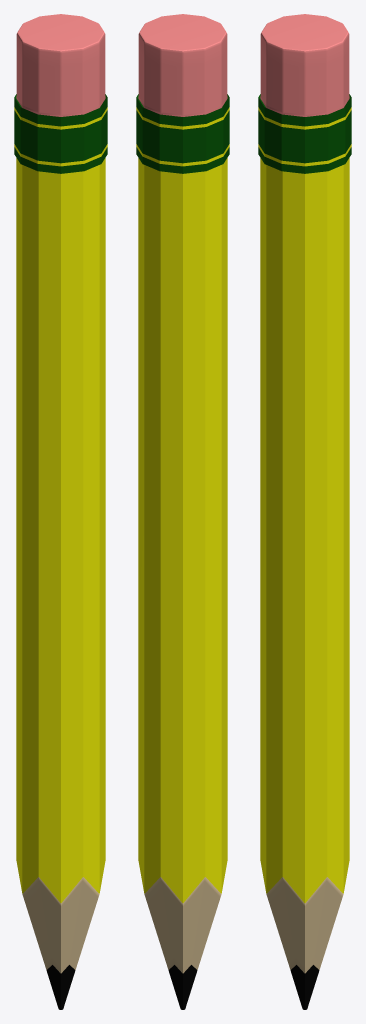
File: pencil.fbx
The picture shows the model from 3 angles, left to right: view 1: azimuth 30°, elevation 25°; view 2: azimuth 150°, elevation 25°; view 3: azimuth 330°, elevation 25°; orthographic projection.
Visible parts, largest first — view 1: pCylinder1; view 2: pCylinder1; view 3: pCylinder1.
Boxes of the visible parts, bbox=[...] form: pCylinder1: bbox=[14, 14, 107, 1009]; pCylinder1: bbox=[136, 14, 229, 1009]; pCylinder1: bbox=[258, 14, 351, 1009].
Bounding box in the file's own units: 1.54 × 17.72 × 1.54.
